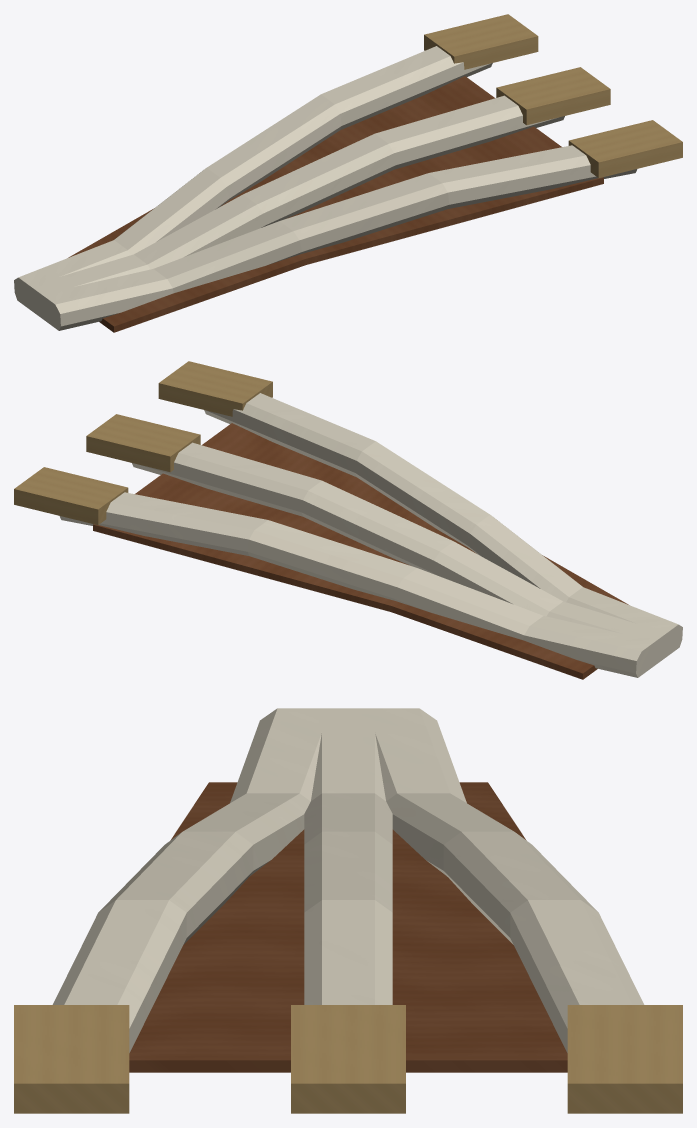
The model's file is AST-STR-002-H826.glb.
3 renders of one model, top to bottom at view 1: azimuth 30°, elevation 25°; view 2: azimuth 150°, elevation 25°; view 3: azimuth 270°, elevation 25°, orthographic. The views are drawn at different scales.
Visible parts, largest first — view 1: BRANCH_Profile_-1, BRANCH_Profile_0, BRANCH_Profile_1, BRANCH_RecessedSoffit, BRANCH_BearingShoe_-1, BRANCH_BearingShoe_0, BRANCH_BearingShoe_1; view 2: BRANCH_Profile_1, BRANCH_Profile_0, BRANCH_Profile_-1, BRANCH_RecessedSoffit, BRANCH_BearingShoe_1, BRANCH_BearingShoe_0, BRANCH_BearingShoe_-1; view 3: BRANCH_RecessedSoffit, BRANCH_Profile_-1, BRANCH_Profile_1, BRANCH_Profile_0, BRANCH_BearingShoe_-1, BRANCH_BearingShoe_1, BRANCH_BearingShoe_0.
Part boxes in pixels (x1,y1,x2,y2): BRANCH_Profile_-1: [37, 145, 637, 330]; BRANCH_Profile_0: [25, 95, 564, 321]; BRANCH_Profile_1: [14, 46, 492, 312]; BRANCH_RecessedSoffit: [68, 76, 603, 332]; BRANCH_BearingShoe_-1: [568, 120, 682, 177]; BRANCH_BearingShoe_0: [496, 67, 610, 125]; BRANCH_BearingShoe_1: [424, 14, 538, 69]; BRANCH_Profile_1: [59, 492, 659, 677]; BRANCH_Profile_0: [132, 442, 670, 667]; BRANCH_Profile_-1: [204, 393, 682, 660]; BRANCH_RecessedSoffit: [93, 423, 628, 679]; BRANCH_BearingShoe_1: [14, 467, 128, 524]; BRANCH_BearingShoe_0: [86, 414, 200, 472]; BRANCH_BearingShoe_-1: [158, 361, 272, 416]; BRANCH_RecessedSoffit: [129, 782, 567, 1072]; BRANCH_Profile_-1: [52, 708, 330, 1052]; BRANCH_Profile_1: [367, 708, 644, 1052]; BRANCH_Profile_0: [304, 708, 392, 1004]; BRANCH_BearingShoe_-1: [14, 1005, 129, 1113]; BRANCH_BearingShoe_1: [567, 1005, 682, 1113]; BRANCH_BearingShoe_0: [291, 1005, 405, 1113].
Bounding box in the file's own units: 5.58 × 0.97 × 3.02.
Materials: 3 (3 with a texture image).
